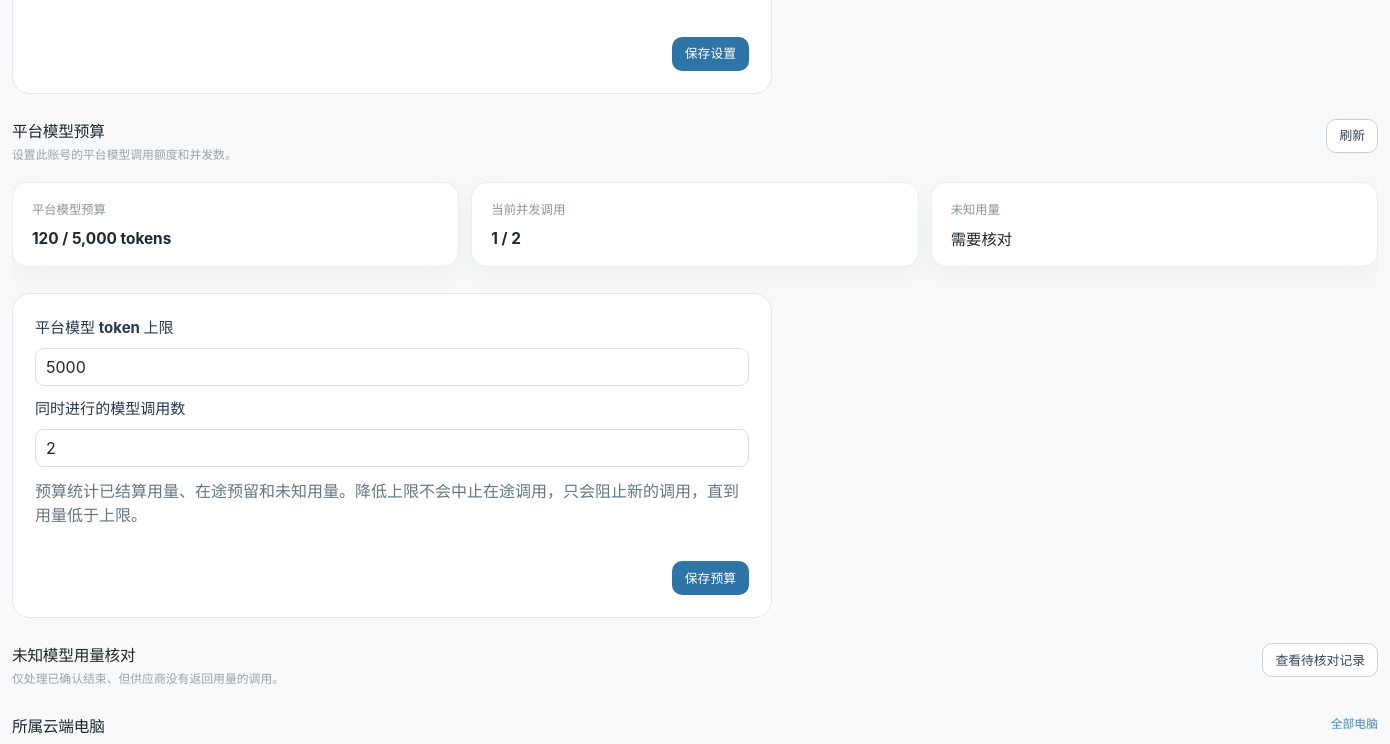
Test: admin model usage reconciliation › lets an administrator update the token and concurrency limits
(page scrolled)
Expected: the text "120 / 5,000 tokens" is shown, x1=32 y1=229 x2=171 y2=248
Replace the text in the number field labelled "平台模型 token 上限" with "7000" at (392, 367), box x1=35 y1=348 x2=749 y2=386
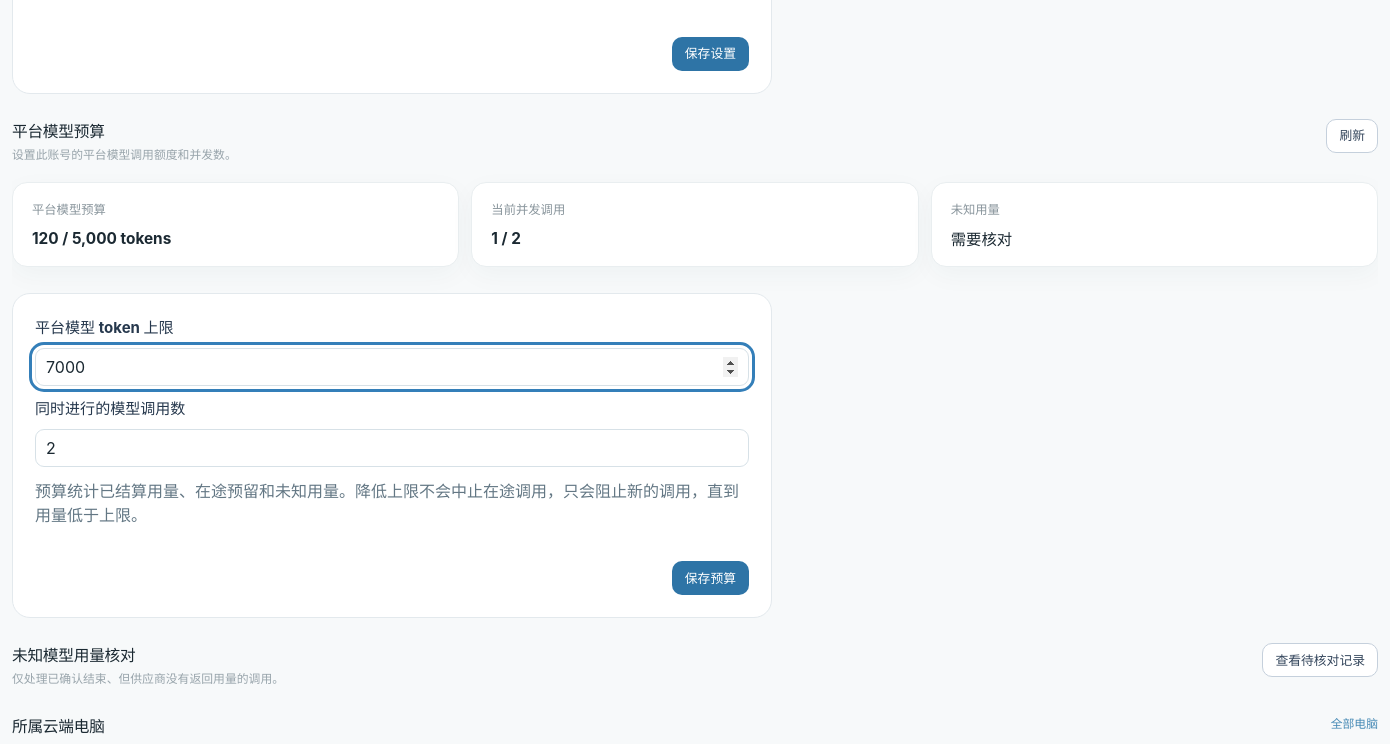
Replace the text in the number field labelled "同时进行的模型调用数" with "4" at (392, 448), box x1=35 y1=429 x2=749 y2=467
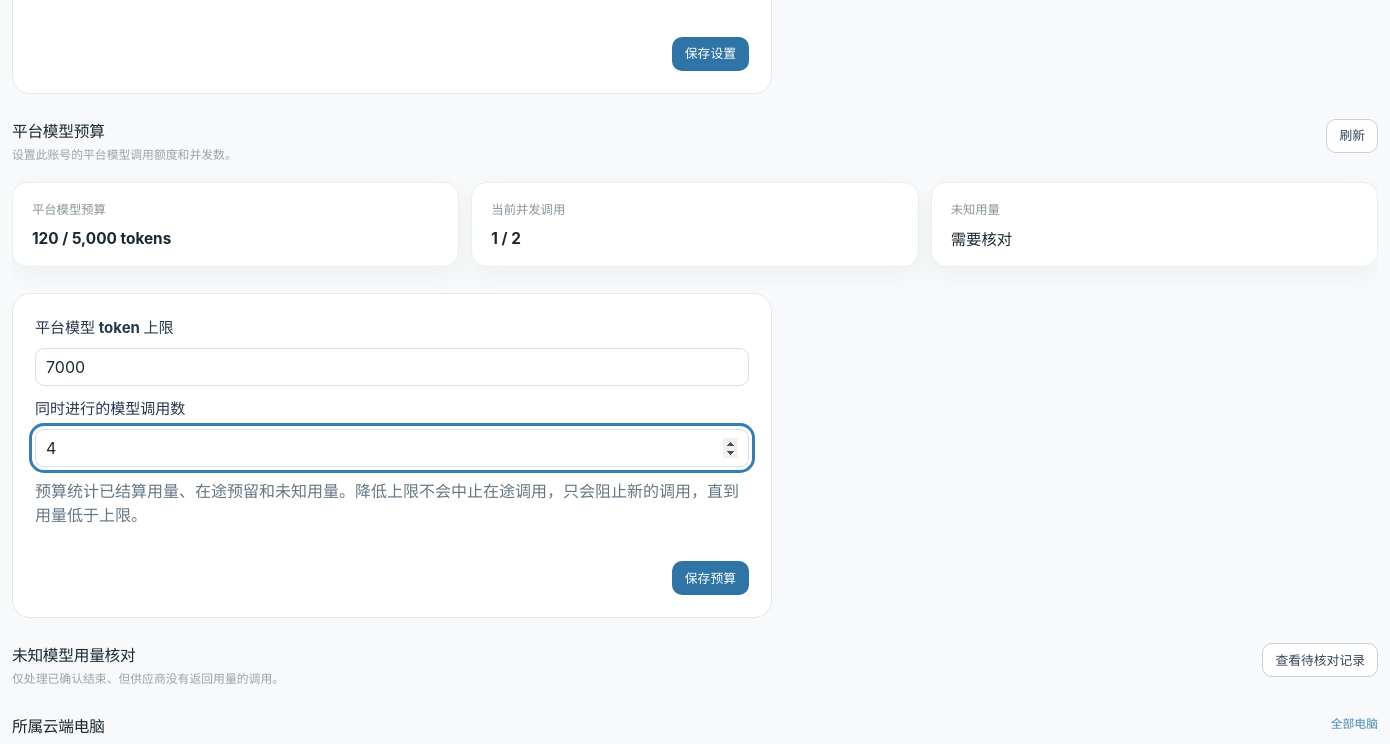
Click the button "保存预算" at (710, 578), box x1=672 y1=561 x2=749 y2=595
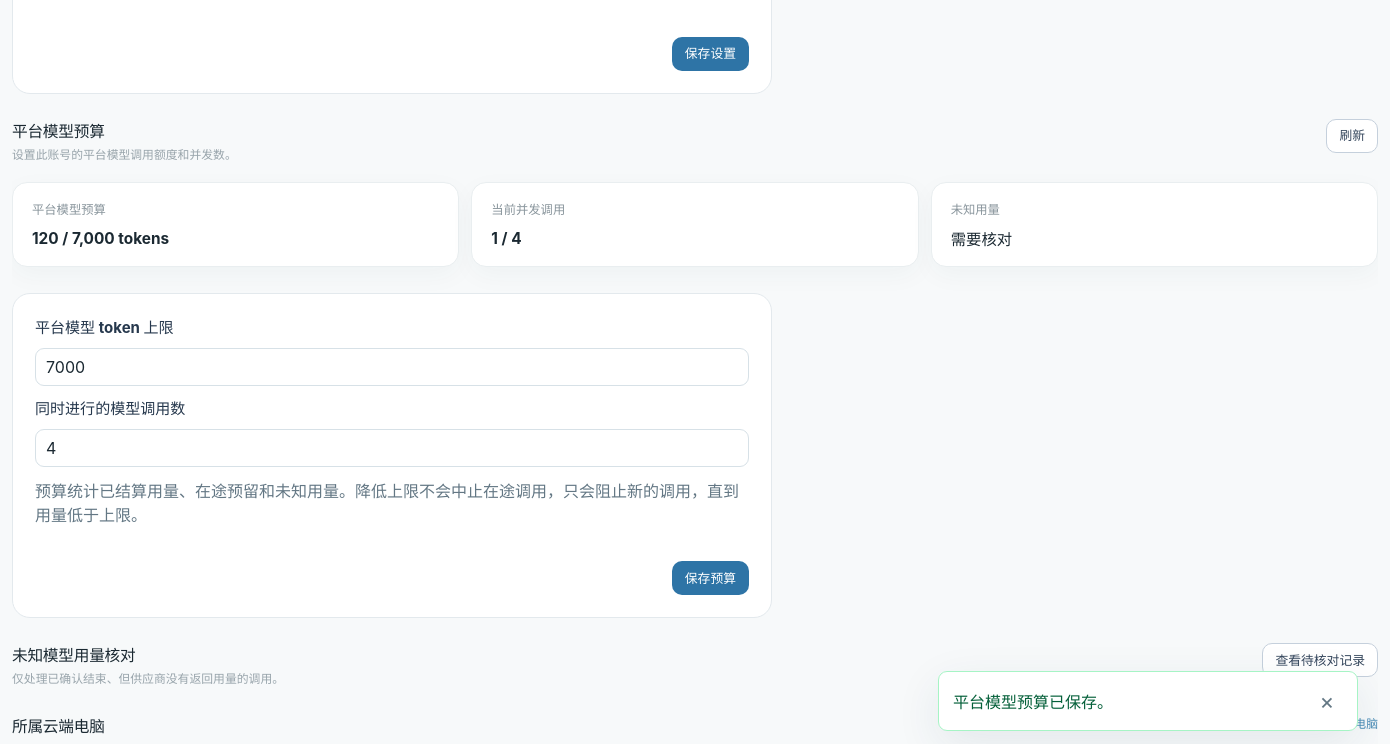
Expected: the text "需要核对" is shown, x1=951 y1=230 x2=1012 y2=249
Now the text "平台模型预算已保存。" is shown, box x1=953 y1=692 x2=1113 y2=712
